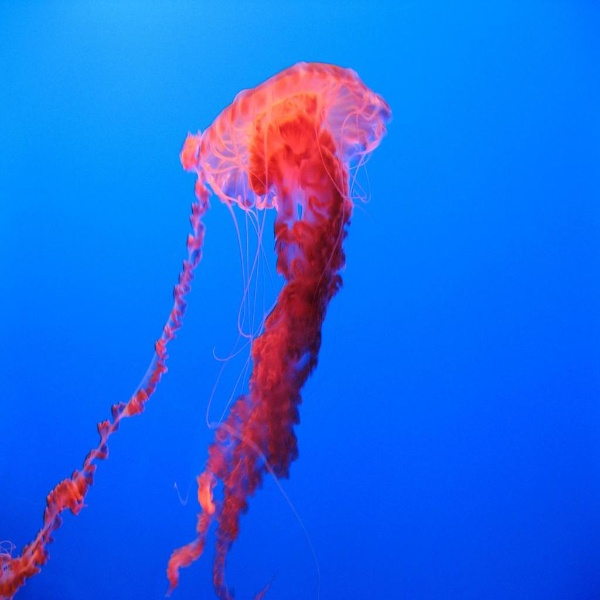Jellyfish: (0, 59, 391, 599)
